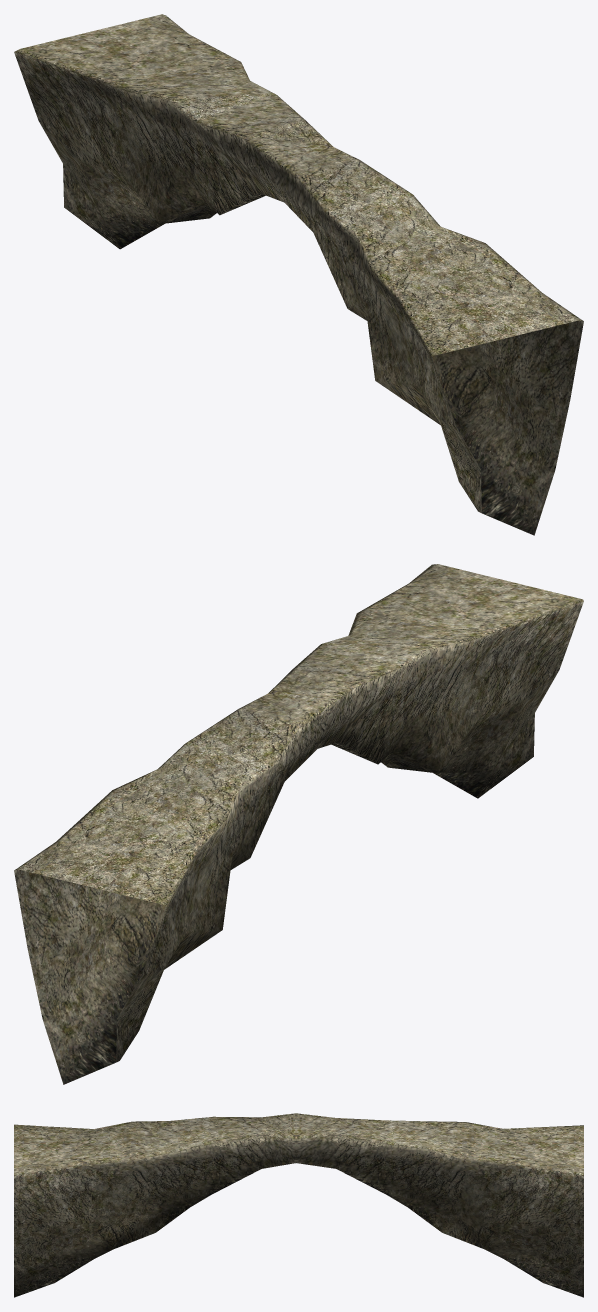
Rendered from general_obj_stonebridge.fbx.
3 views of the same model, one above another, from view 1: azimuth 30°, elevation 25°; view 2: azimuth 150°, elevation 25°; view 3: azimuth 270°, elevation 25° (orthographic). The views are drawn at different scales.
Parts seen in each view (by area): view 1: Sphere01; view 2: Sphere01; view 3: Sphere01.
Part boxes in pixels (x1,y1,x2,y2): Sphere01: [14, 14, 583, 535]; Sphere01: [14, 564, 583, 1084]; Sphere01: [14, 1113, 583, 1297].
Size of the model in its own units: 12.59 by 19.21 by 59.96.
